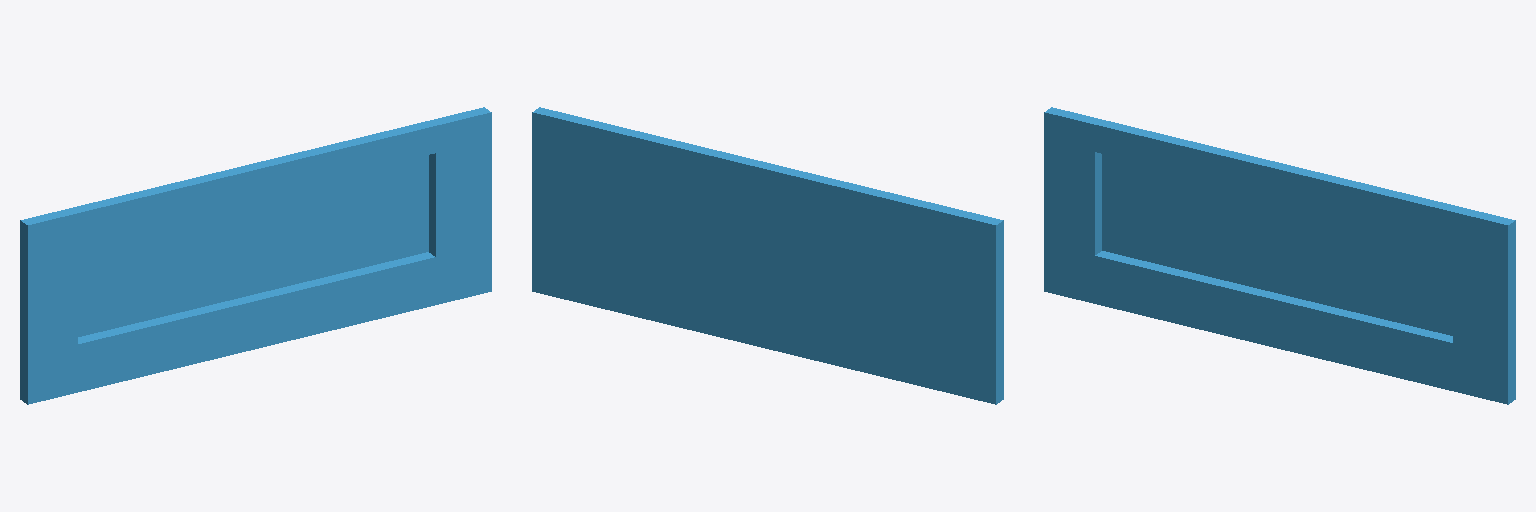
URDF robot description (kitchenStoveDoor):
<?xml version="1.0"?>
<robot name="kitchenStoveDoor">
  <link name="world"/>
  <link name="kitchenstove_door">
    <inertial>
        <origin rpy="0 0 0" xyz="0 0 0"/>
        <mass value="2.0"/>
        <inertia ixx="0.013" ixy="0" ixz="0" iyy="0.419" iyz="0" izz="0.406"/>
    </inertial>
    <visual>
      <origin xyz="0 0 0" rpy="0 0 0" />
      <geometry>
        <mesh filename="kitchenstove_door_visual.obj"/>
      </geometry>
    </visual>
    <collision>
      <origin xyz="0 0 0" rpy="0 0 0" />
      <geometry>
        <mesh filename="kitchenstove_door_collision.obj"/>
      </geometry>
    </collision>
  </link>
  <joint name="kitchenstove_hinge" type="revolute">
    <axis xyz="1 0 0"/>
    <parent link="world"/>
    <child link="kitchenstove_door"/>
    <limit effort="1000.0" lower="-1.1" upper="0" velocity="3."/>
    <origin rpy="0 0 0" xyz="0 0.653 -0.428"/>
    <joint_properties damping="0.0" friction="0.0"/>
  </joint>
</robot>

--- Render facts (derived) ---
3 views of the same robot in one strip: view 1: azimuth 30°, elevation 25°; view 2: azimuth 150°, elevation 25°; view 3: azimuth 330°, elevation 25° (orthographic).
Robot: kitchenStoveDoor — 2 links, 1 joints (1 revolute); root link world; default pose: all joints at 0.
Visible links, largest first — view 1: kitchenstove_door; view 2: kitchenstove_door; view 3: kitchenstove_door.
Boxes of the visible links, x1,y1,x2,y2 form: kitchenstove_door: (20, 107, 491, 404); kitchenstove_door: (532, 107, 1003, 404); kitchenstove_door: (1044, 107, 1515, 404).
Bounding box of the posed robot: 2.41 × 0.064 × 0.8898 m (x, y, z).
1 mesh visuals loaded from 1 distinct referenced files (1 OBJ).
